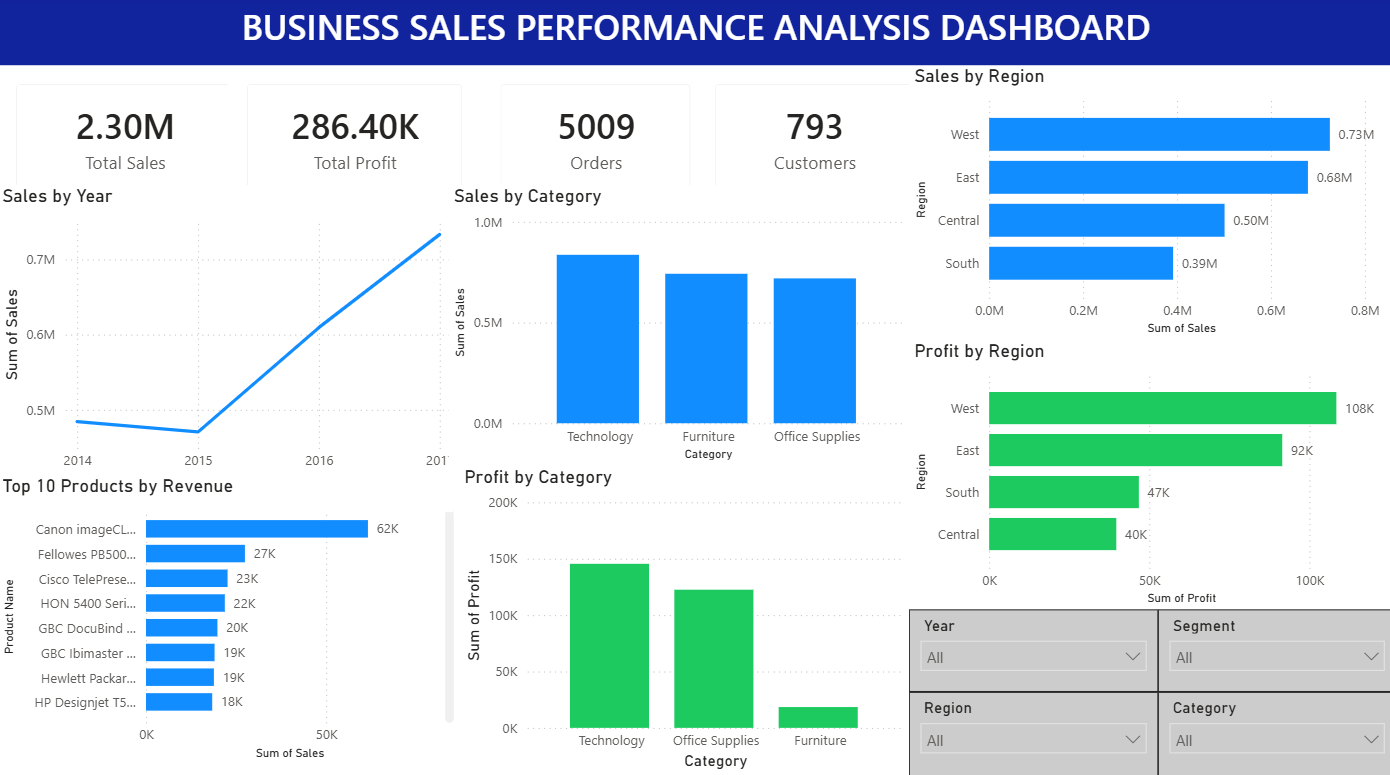

Layout of this report page (visuals, bound fields, positions):
{"tool":"powerbi","page":{"name":"Page 1","canvas":[1280,720],"ordinal":0},"visuals":[{"type":"cardVisual","fields":{"Data":["superstore_cleaned.Total Sales"]},"box":[0,63.1,233.3,130.4],"z":0},{"type":"cardVisual","fields":{"Data":["superstore_cleaned.Total Profit"]},"box":[211.3,63.1,231.9,130.4],"z":1000},{"type":"cardVisual","fields":{"Data":["superstore_cleaned.Total Orders"]},"box":[443.3,63.1,208.6,130.4],"z":2000},{"type":"cardVisual","fields":{"Data":["superstore_cleaned.Total Customers"]},"box":[639.5,63.1,216.8,130.4],"z":3000},{"type":"lineChart","title":"Sales by Year","fields":{"Category":["superstore_cleaned.Year"],"Y":["Sum(superstore_cleaned.Sales)"]},"box":[0,172.9,422.7,282.7],"z":4000},{"type":"clusteredColumnChart","title":"Sales by Category","fields":{"Category":["superstore_cleaned.Category"],"Y":["Sum(superstore_cleaned.Sales)"]},"box":[413.1,172.9,421.3,256.6],"z":5000},{"type":"clusteredBarChart","title":"Sales by Region","fields":{"Y":["Sum(superstore_cleaned.Sales)"],"Category":["superstore_cleaned.Region"]},"box":[834.4,63.1,444.6,251.1],"z":6000},{"type":"clusteredColumnChart","title":"Profit by Category","fields":{"Category":["superstore_cleaned.Category"],"Y":["Sum(superstore_cleaned.Profit)"]},"box":[422.7,429.5,411.7,282.7],"z":7000},{"type":"clusteredBarChart","title":"Profit by Region","fields":{"Y":["Sum(superstore_cleaned.Profit)"],"Category":["superstore_cleaned.Region"]},"box":[834.4,314.3,444.6,247],"z":8000},{"type":"clusteredBarChart","title":"Top 10 Products by Revenue","fields":{"Y":["Sum(superstore_cleaned.Sales)"],"Category":["superstore_cleaned.Product Name"]},"box":[0,437.8,422.7,264.9],"z":9000},{"type":"slicer","fields":{"Values":["superstore_cleaned.Year"]},"box":[834.4,561.3,227.8,75.5],"z":10000},{"type":"slicer","fields":{"Values":["superstore_cleaned.Region"]},"box":[834.4,636.8,227.8,83.7],"z":11000},{"type":"slicer","fields":{"Values":["superstore_cleaned.Category"]},"box":[1062.2,636.8,218.2,83.7],"z":12000},{"type":"slicer","fields":{"Values":["superstore_cleaned.Segment"]},"box":[1062.2,561.3,218.2,75.5],"z":13000},{"type":"textbox","box":[0,0,1279,63.1],"z":14000}]}

Visuals, with their boxes in screenshot pixels (x1, y1, x2, y2), scaled from the page's 1280x720 canvas onto the 1390x775 screenshot:
cardVisual - superstore_cleaned.Total Sales: (0, 68, 253, 208)
cardVisual - superstore_cleaned.Total Profit: (229, 68, 481, 208)
cardVisual - superstore_cleaned.Total Orders: (481, 68, 708, 208)
cardVisual - superstore_cleaned.Total Customers: (694, 68, 930, 208)
"Sales by Year" lineChart: (0, 186, 459, 490)
"Sales by Category" clusteredColumnChart: (449, 186, 906, 462)
"Sales by Region" clusteredBarChart: (906, 68, 1389, 338)
"Profit by Category" clusteredColumnChart: (459, 462, 906, 767)
"Profit by Region" clusteredBarChart: (906, 338, 1389, 604)
"Top 10 Products by Revenue" clusteredBarChart: (0, 471, 459, 756)
slicer - superstore_cleaned.Year: (906, 604, 1153, 685)
slicer - superstore_cleaned.Region: (906, 685, 1153, 774)
slicer - superstore_cleaned.Category: (1153, 685, 1389, 774)
slicer - superstore_cleaned.Segment: (1153, 604, 1389, 685)
textbox: (0, 0, 1389, 68)
